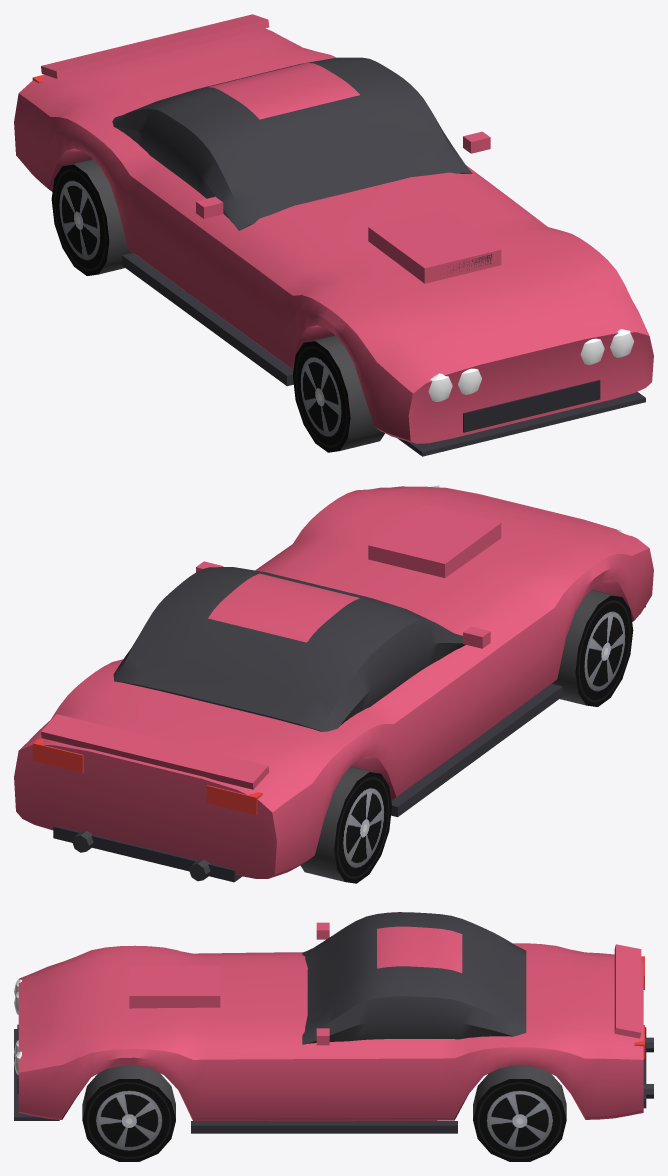
The model's file is car_tank.glb.
3 views of the same model, one above another, from view 1: azimuth 30°, elevation 25°; view 2: azimuth 150°, elevation 25°; view 3: azimuth 270°, elevation 25° (orthographic). The views are drawn at different scales.
Visible parts, largest first — view 1: Car; view 2: Car; view 3: Car.
Boxes of the visible parts, box(x1,y1,x2,y2) form: Car: box(14, 14, 653, 456); Car: box(14, 485, 653, 883); Car: box(14, 912, 653, 1161).
Bounding box in the file's own units: 2.06 × 1.35 × 4.91.
3 materials, 1 textured.
